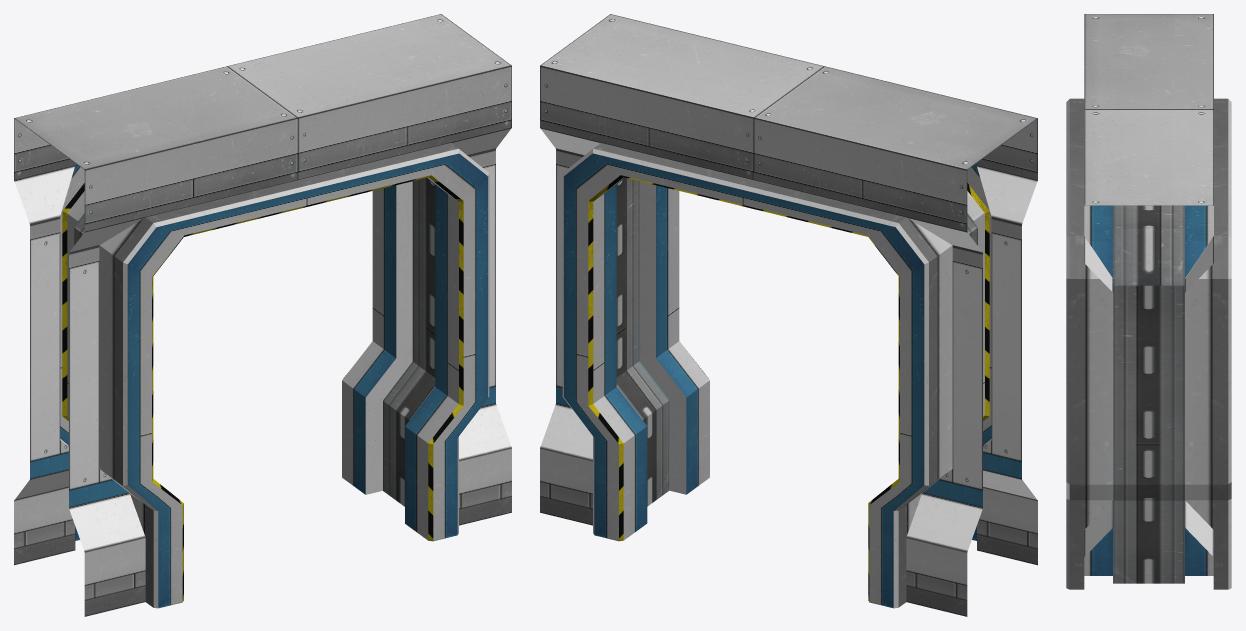
The model's file is Door_Short_01_A.FBX.
The picture shows the model from 3 angles, left to right: view 1: azimuth 30°, elevation 25°; view 2: azimuth 150°, elevation 25°; view 3: azimuth 270°, elevation 25°; orthographic projection. The views are drawn at different scales.
Parts seen in each view (by area): view 1: Door_Short_01_A; view 2: Door_Short_01_A; view 3: Door_Short_01_A.
Boxes of the visible parts, <box> form: Door_Short_01_A: <box>14,14,511,616</box>; Door_Short_01_A: <box>540,14,1037,616</box>; Door_Short_01_A: <box>1066,14,1231,589</box>.
Size of the model in its own units: 140 by 140 by 50.94.
